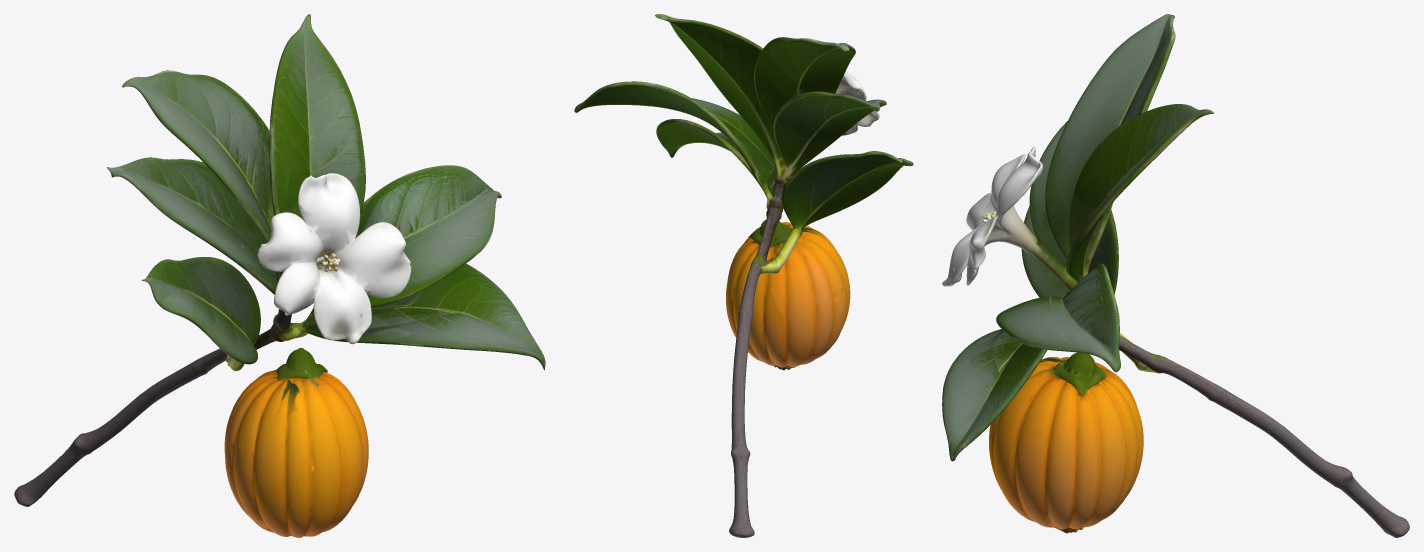
Rendered from zhizi.glb.
The picture shows the model from 3 angles, left to right: view 1: azimuth 30°, elevation 25°; view 2: azimuth 150°, elevation 25°; view 3: azimuth 270°, elevation 25°; orthographic projection. The views are drawn at different scales.
Visible parts, largest first — view 1: node_0; view 2: node_0; view 3: node_0.
Boxes of the visible parts, <box> form: node_0: <box>14,14,545,537</box>; node_0: <box>574,14,913,537</box>; node_0: <box>942,14,1409,537</box>.
Size of the model in its own units: 0.6547 by 0.8447 by 0.689.
Materials: 1 (1 with a texture image).
